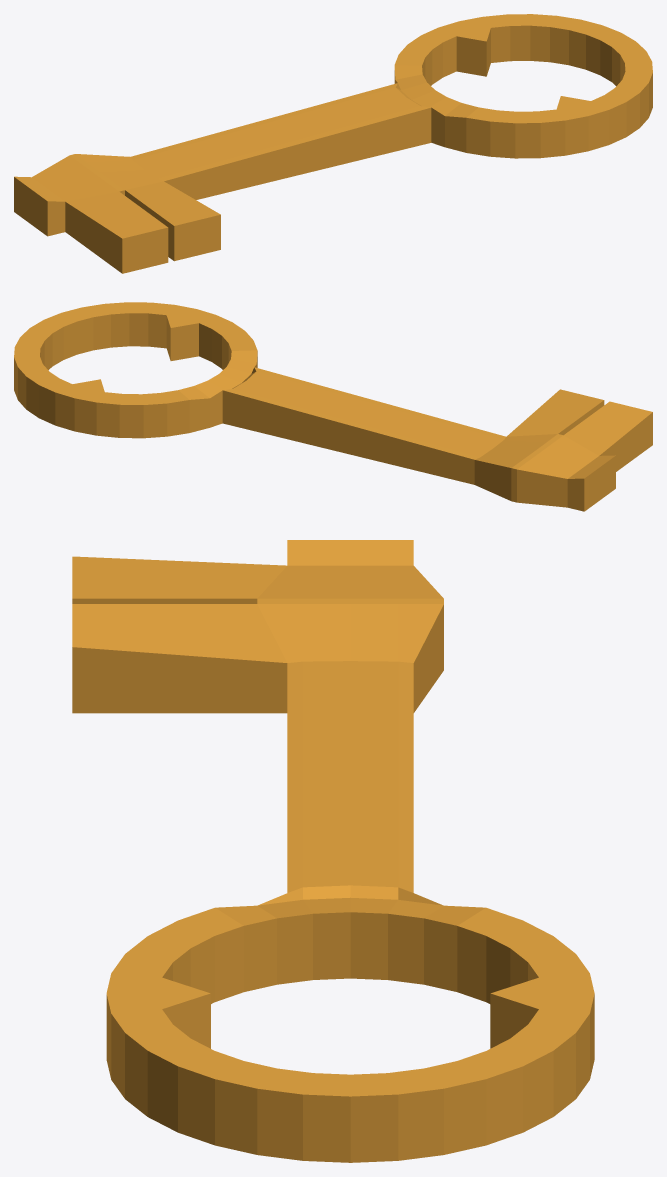
Rendered from key.glb.
3 views of the same model, one above another, from view 1: azimuth 30°, elevation 25°; view 2: azimuth 150°, elevation 25°; view 3: azimuth 270°, elevation 25° (orthographic). The views are drawn at different scales.
Parts seen in each view (by area): view 1: Key; view 2: Key; view 3: Key.
Boxes of the visible parts, x1,y1,x2,y2 form: Key: (14, 14, 652, 273); Key: (14, 302, 652, 511); Key: (72, 540, 594, 1162).
Size of the model in its own units: 0.8093 by 0.045 by 0.321.
